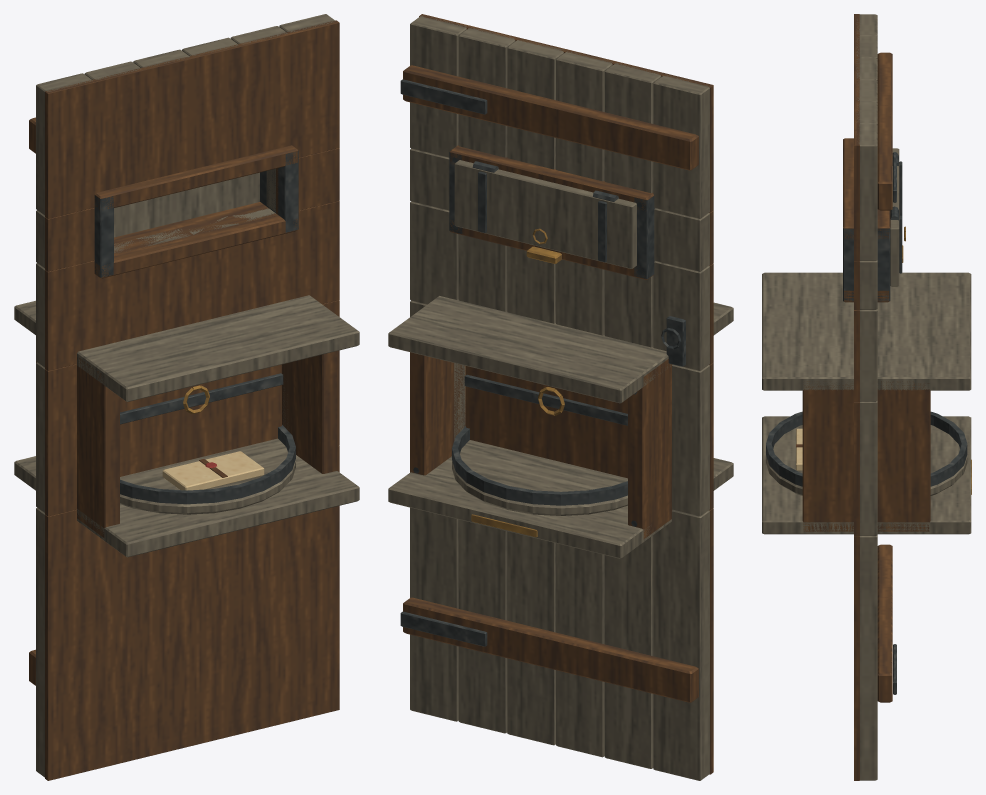
Rendered from DoorLeaf.obj.
3 views of the same model, side by side, from view 1: azimuth 30°, elevation 25°; view 2: azimuth 150°, elevation 25°; view 3: azimuth 270°, elevation 25° (orthographic). The views are drawn at different scales.
Parts seen in each view (by area): view 1: Door_PlanksAndIron, Door_TransferHousing, Door_TransferRotor, Door_EyeWindowFrame, Door_EyeShutterPanel, Door_TransferPacket; view 2: Door_PlanksAndIron, Door_TransferHousing, Door_TransferRotor, Door_EyeShutterPanel, Door_EyeWindowFrame; view 3: Door_TransferHousing, Door_PlanksAndIron, Door_TransferRotor, Door_EyeWindowFrame, Door_EyeShutterPanel.
Boxes of the visible parts, bbox=[...] form: Door_PlanksAndIron: bbox=[29, 14, 339, 780]; Door_TransferHousing: bbox=[14, 295, 359, 557]; Door_TransferRotor: bbox=[120, 364, 295, 514]; Door_EyeWindowFrame: bbox=[94, 145, 298, 278]; Door_EyeShutterPanel: bbox=[114, 172, 259, 237]; Door_TransferPacket: bbox=[162, 451, 264, 490]; Door_PlanksAndIron: bbox=[400, 14, 713, 780]; Door_TransferHousing: bbox=[388, 296, 733, 558]; Door_TransferRotor: bbox=[452, 366, 627, 515]; Door_EyeShutterPanel: bbox=[454, 160, 636, 268]; Door_EyeWindowFrame: bbox=[449, 145, 654, 279]; Door_TransferHousing: bbox=[762, 272, 971, 534]; Door_PlanksAndIron: bbox=[854, 14, 896, 780]; Door_TransferRotor: bbox=[766, 411, 967, 495]; Door_EyeWindowFrame: bbox=[843, 138, 903, 302]; Door_EyeShutterPanel: bbox=[890, 148, 905, 286].
Size of the model in its own units: 0.924 by 2.08 by 0.622.
9 materials, 9 textured.
